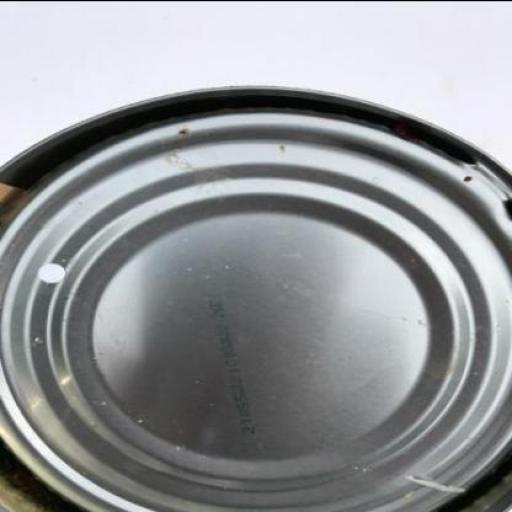metal: (1, 80, 512, 511)
